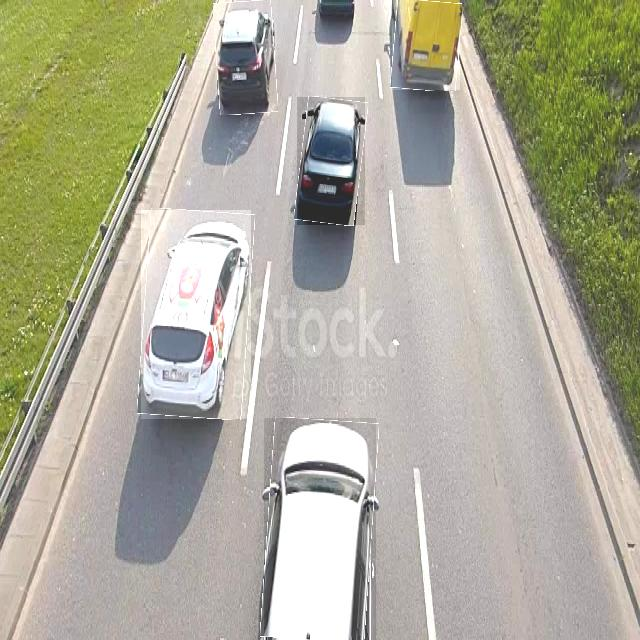Car: (264, 418, 376, 640), (141, 210, 251, 419), (297, 97, 365, 225), (215, 1, 277, 115)
Truck: (392, 0, 460, 90)
